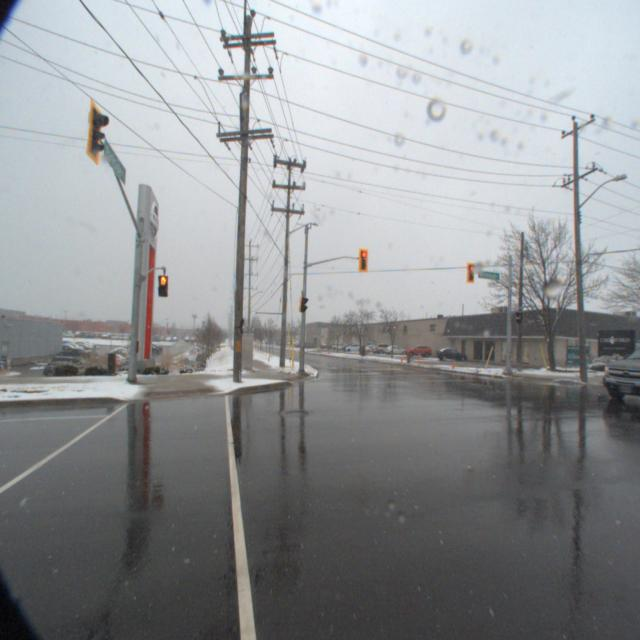Car: (432, 346, 468, 362), (400, 343, 432, 358), (381, 344, 406, 356)
